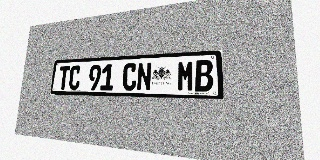1: (100, 64, 114, 90)
9: (88, 64, 102, 90)
B: (195, 60, 213, 92)
C: (122, 63, 137, 91), (68, 65, 81, 90)
M: (177, 60, 194, 92)
N: (136, 62, 152, 91)
T: (58, 66, 70, 90)
